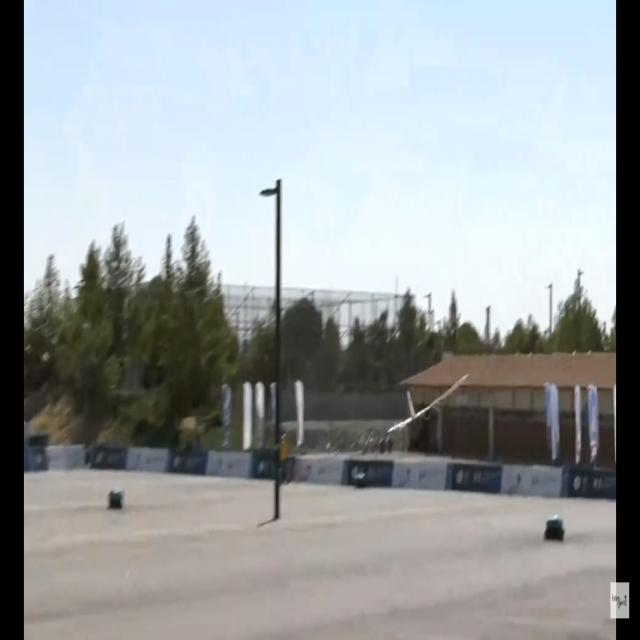iha: (419, 374, 436, 433)
